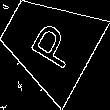P_NW: (19, 14, 77, 71)
